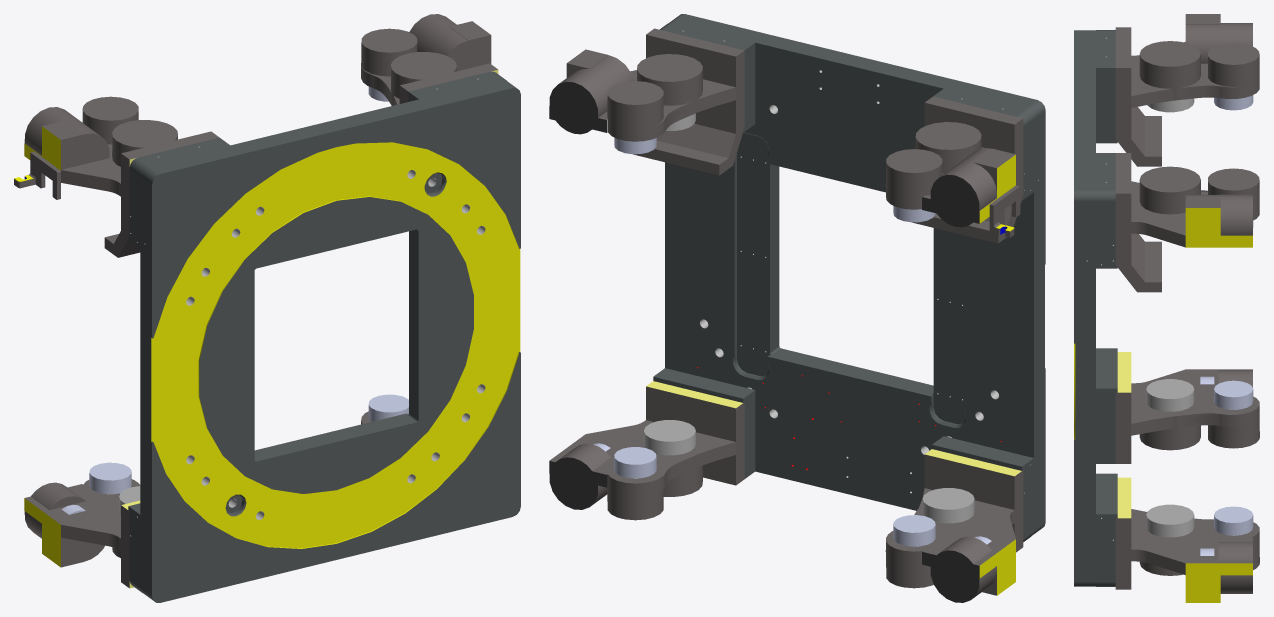
3 renders of one model, left to right at view 1: azimuth 30°, elevation 25°; view 2: azimuth 150°, elevation 25°; view 3: azimuth 270°, elevation 25°, orthographic. The views are drawn at different scales.
Parts seen in each view (by area): view 1: Carriage, Carriage_Support, Calib_Part; view 2: Carriage, Carriage_Support, Calib_Part; view 3: Carriage_Support, Carriage.
Part boxes in pixels (<box>): Carriage: <box>128,71,520,602</box>; Carriage_Support: <box>24,14,498,588</box>; Calib_Part: <box>14,151,60,199</box>; Carriage: <box>653,14,1045,541</box>; Carriage_Support: <box>549,28,1023,602</box>; Calib_Part: <box>989,185,1020,237</box>; Carriage_Support: <box>1115,14,1259,602</box>; Carriage: <box>1074,30,1117,586</box>.
Bounding box in the file's own units: 1.1 × 1 × 0.425.
